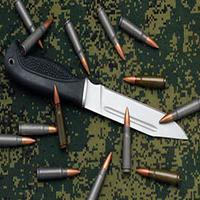knife: (2, 40, 189, 140)
